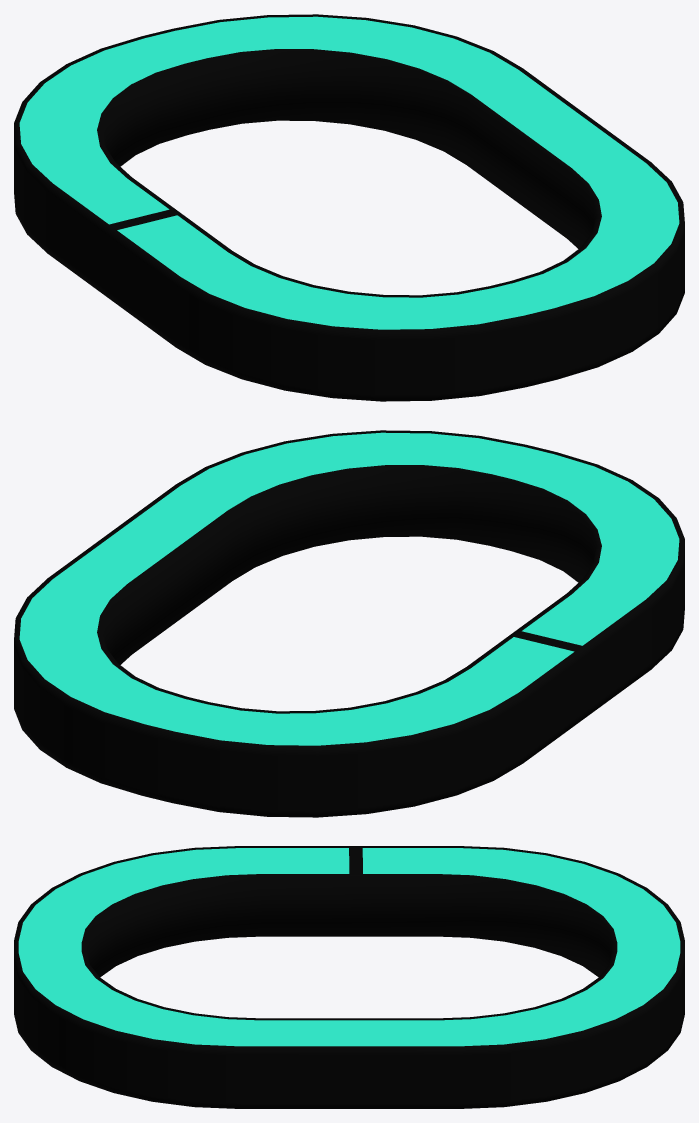
Rendered from road.fbx.
The picture shows the model from 3 angles, top to bottom: view 1: azimuth 30°, elevation 25°; view 2: azimuth 150°, elevation 25°; view 3: azimuth 270°, elevation 25°; orthographic projection. The views are drawn at different scales.
Visible parts, largest first — view 1: Cube; view 2: Cube; view 3: Cube.
Boxes of the visible parts, <box> form: Cube: <box>14,14,684,401</box>; Cube: <box>14,430,684,817</box>; Cube: <box>14,846,684,1108</box>.
Size of the model in its own units: 700 by 97.71 by 981.
